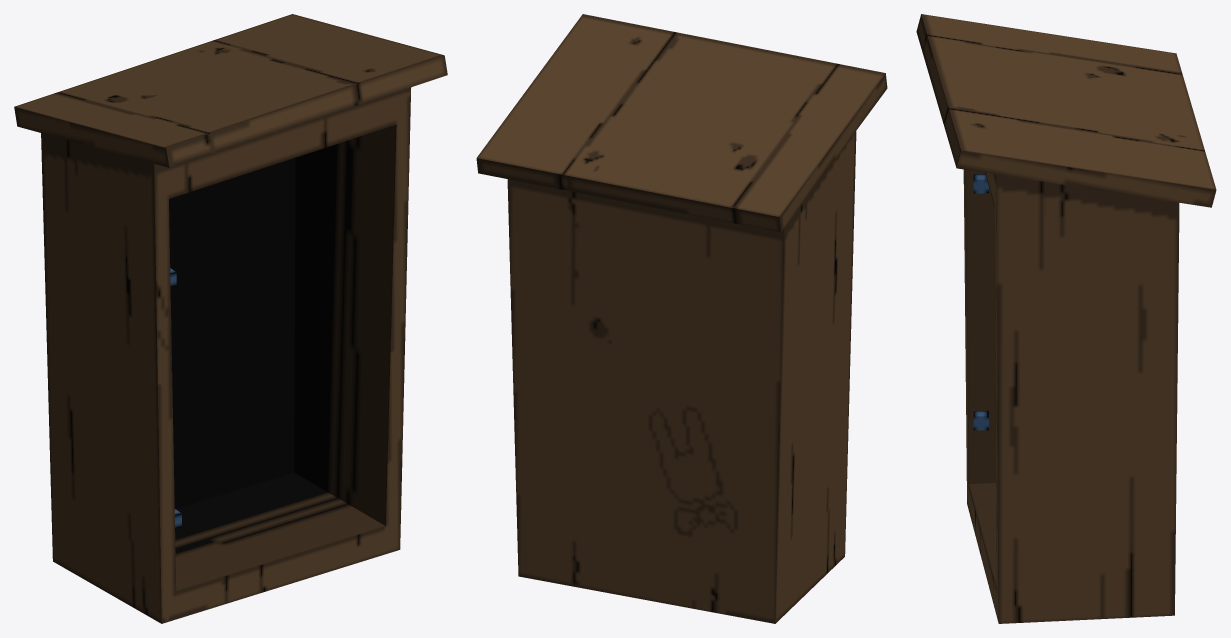
The model's file is Outhouse.obj.
The picture shows the model from 3 angles, left to right: view 1: azimuth 30°, elevation 25°; view 2: azimuth 150°, elevation 25°; view 3: azimuth 270°, elevation 25°; orthographic projection. The views are drawn at different scales.
Visible parts, largest first — view 1: House; view 2: House; view 3: House.
Boxes of the visible parts, x1=… form: House: x1=14, y1=14, x2=447, y2=623; House: x1=476, y1=14, x2=887, y2=623; House: x1=916, y1=14, x2=1216, y2=623.
Size of the model in its own units: 2.73 by 4.09 by 2.29.
1 material, 1 textured.
